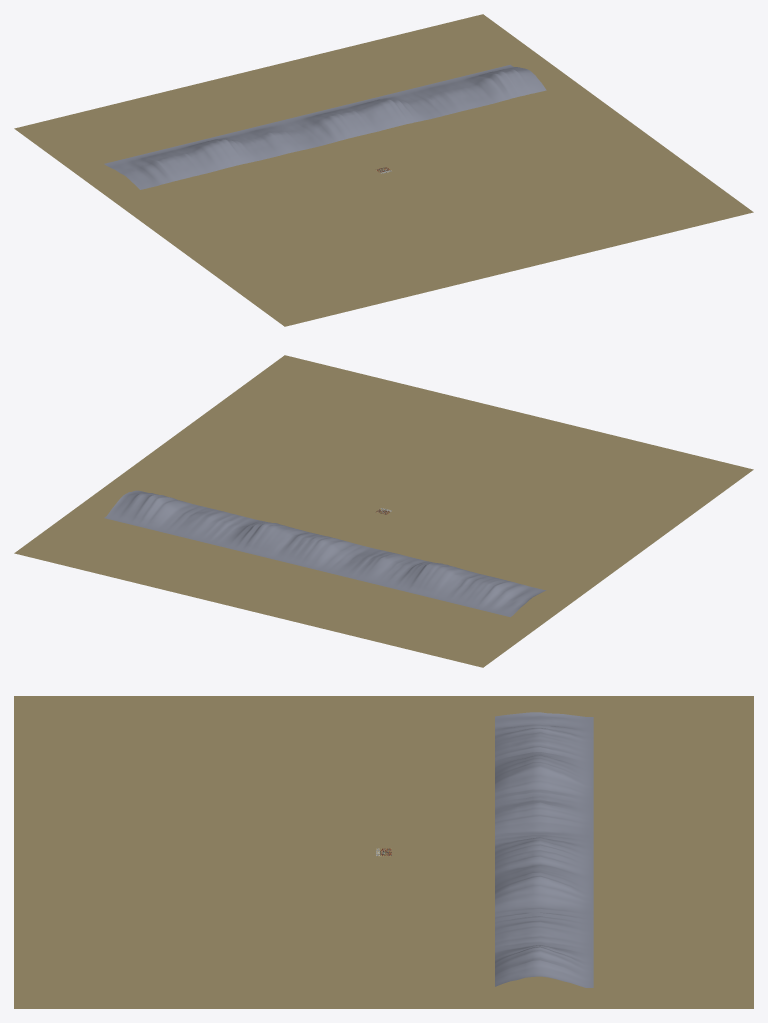
Rendered from usa_palm_valley.glb.
3 views of the same model, one above another, from view 1: azimuth 30°, elevation 25°; view 2: azimuth 150°, elevation 25°; view 3: azimuth 270°, elevation 25° (orthographic). The views are drawn at different scales.
Visible parts, largest first — view 1: Backdrop_far_ground_3_3, Backdrop_mountain_3_3; view 2: Backdrop_far_ground_3_3, Backdrop_mountain_3_3; view 3: Backdrop_far_ground_3_3, Backdrop_mountain_3_3.
Boxes of the visible parts, x1,y1,x2,y2 form: Backdrop_far_ground_3_3: (14, 14, 753, 326); Backdrop_mountain_3_3: (104, 64, 546, 189); Backdrop_far_ground_3_3: (14, 355, 753, 667); Backdrop_mountain_3_3: (104, 490, 546, 617); Backdrop_far_ground_3_3: (14, 696, 753, 1008); Backdrop_mountain_3_3: (495, 712, 593, 987).
Bounding box in the file's own units: 60000 × 1722 × 60000.
Materials: 48 (25 with a texture image).
